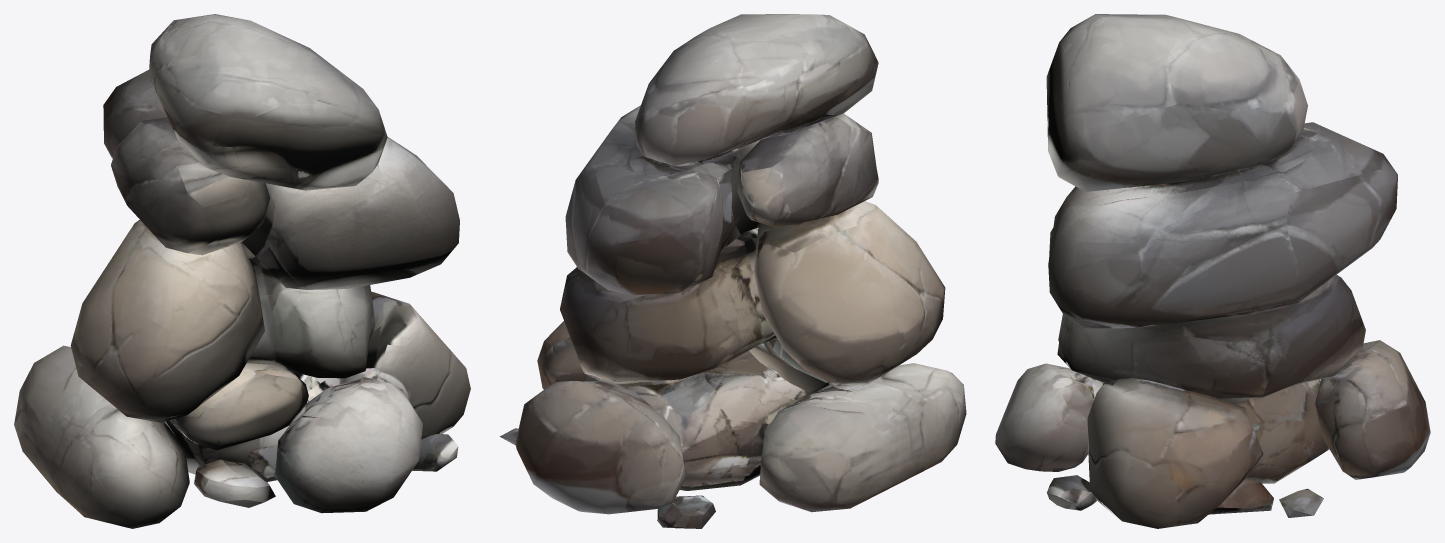
Rendered from rock_6.glb.
3 views of the same model, side by side, from view 1: azimuth 30°, elevation 25°; view 2: azimuth 150°, elevation 25°; view 3: azimuth 270°, elevation 25° (orthographic). The views are drawn at different scales.
Parts seen in each view (by area): view 1: Body; view 2: Body; view 3: Body.
Boxes of the visible parts, <box> form: Body: <box>14,14,470,528</box>; Body: <box>499,14,966,528</box>; Body: <box>995,14,1430,528</box>.
Size of the model in its own units: 1.95 by 2 by 1.92.
Materials: 1 (1 with a texture image).
